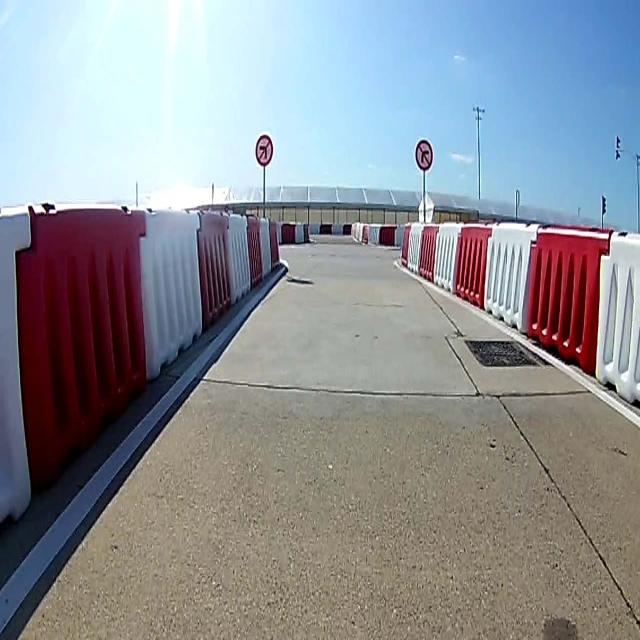sagadonulmez: (415, 138, 433, 170)
soladonulmez: (254, 133, 274, 167)
